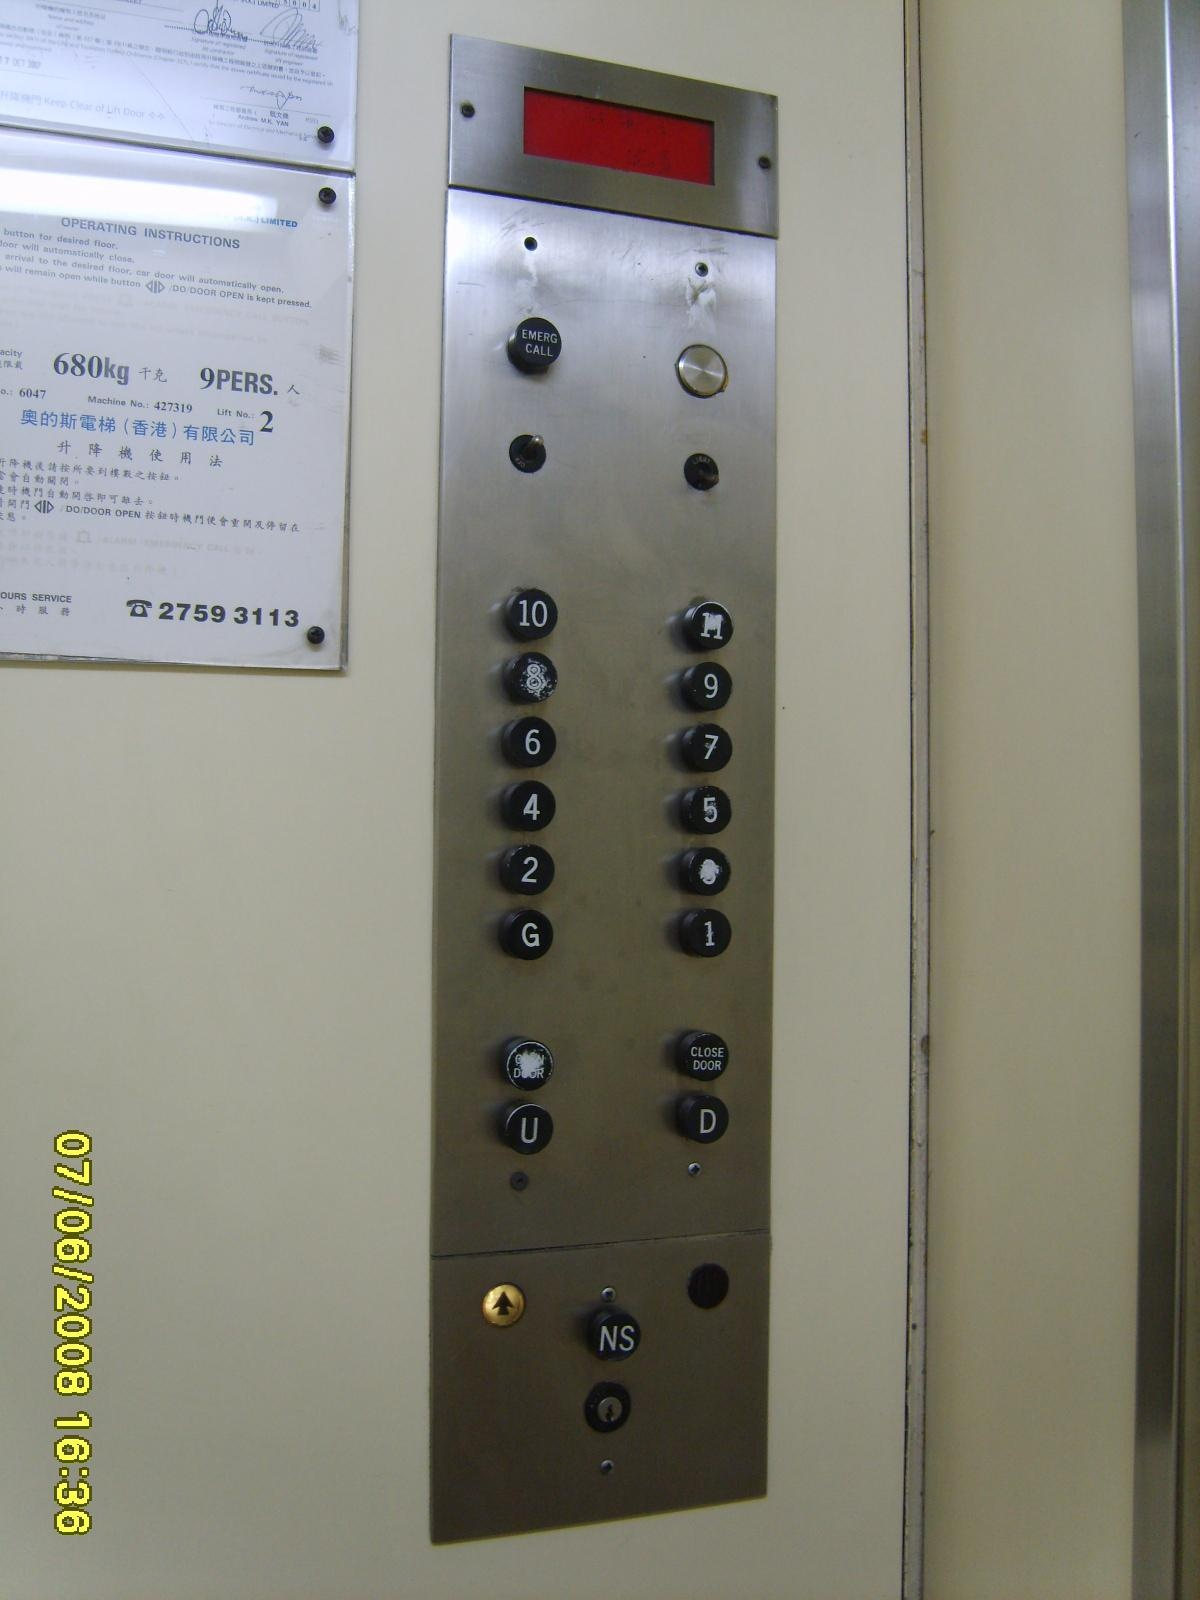1: (678, 910, 732, 957)
10: (505, 588, 558, 643)
11: (682, 600, 734, 653)
2: (499, 845, 555, 896)
4: (498, 781, 557, 833)
5: (679, 787, 732, 835)
6: (502, 716, 557, 769)
7: (681, 723, 734, 774)
8: (503, 650, 558, 706)
9: (679, 661, 732, 712)
D: (676, 1092, 729, 1141)
G: (497, 910, 553, 961)
NS: (587, 1306, 642, 1363)
U: (495, 1100, 555, 1157)
blur: (678, 847, 731, 894)
empty: (676, 344, 730, 399), (688, 1262, 729, 1309)
keyhole: (581, 1381, 637, 1436)
led: (522, 83, 716, 188)
switch: (508, 433, 547, 474), (683, 452, 721, 491)
text_CALL: (505, 317, 563, 375)
text_CLOSE DOOR: (676, 1031, 729, 1081)
text_blur: (499, 1037, 553, 1090)
up: (482, 1283, 526, 1328)
